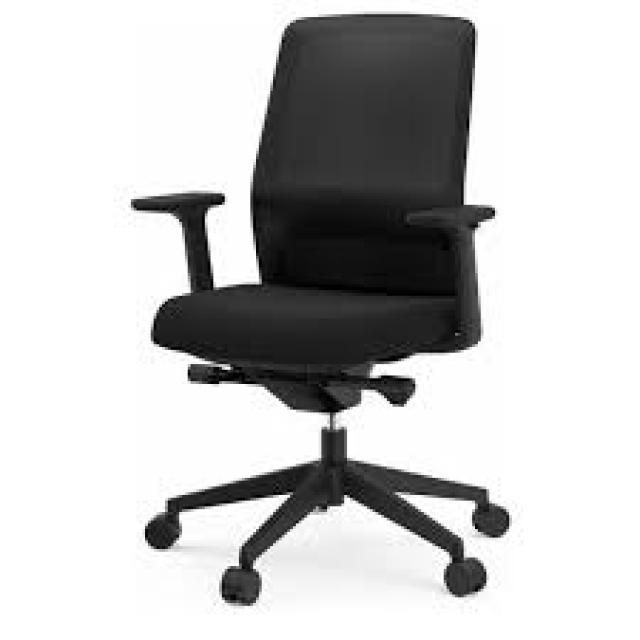chair: (85, 5, 609, 628)
